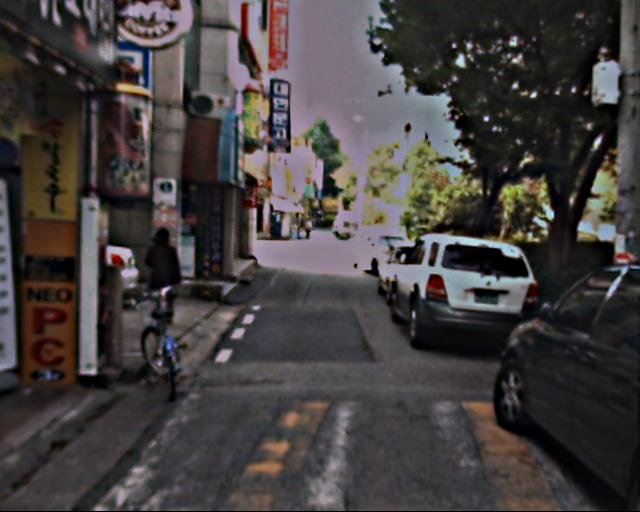person: (146, 224, 190, 331)
